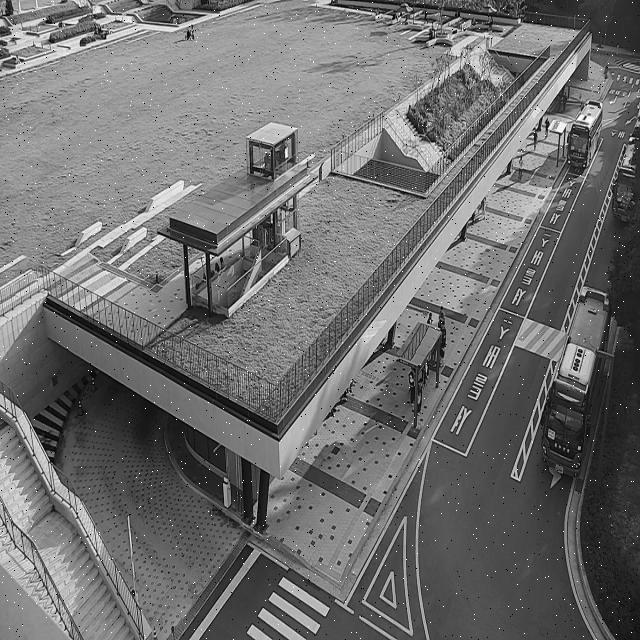queue: (416, 310, 444, 430)
